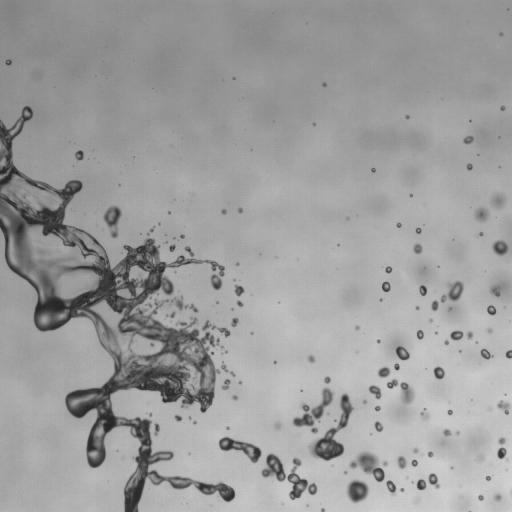droplet: (349, 451, 388, 482), (386, 378, 415, 404), (102, 205, 122, 238), (346, 478, 369, 503), (440, 280, 463, 302), (490, 192, 506, 209), (491, 240, 508, 255), (474, 206, 489, 222), (496, 399, 511, 414), (368, 384, 382, 399), (395, 346, 409, 360), (428, 473, 440, 489), (377, 365, 390, 378), (433, 366, 446, 379), (386, 480, 396, 495), (480, 348, 493, 359), (489, 285, 500, 297), (234, 284, 244, 297), (450, 330, 463, 340), (11, 156, 22, 167), (481, 198, 492, 209), (486, 205, 497, 216), (116, 234, 127, 245), (158, 250, 169, 261), (107, 256, 118, 267), (162, 267, 173, 278), (221, 279, 232, 290), (425, 290, 436, 301), (232, 306, 243, 317), (180, 309, 191, 320), (154, 311, 165, 322), (79, 315, 90, 326), (162, 317, 173, 328), (493, 348, 504, 359), (210, 353, 221, 364), (94, 376, 105, 387), (375, 376, 386, 387), (212, 385, 223, 396), (127, 386, 138, 397), (150, 389, 161, 400), (109, 390, 120, 401), (309, 396, 320, 407), (330, 397, 341, 408), (410, 397, 421, 408), (170, 399, 181, 410), (331, 405, 342, 416), (86, 409, 97, 420), (443, 417, 454, 428), (149, 441, 160, 452), (365, 444, 376, 455), (296, 467, 307, 478), (362, 473, 373, 484), (281, 480, 292, 491), (337, 484, 348, 495), (135, 500, 146, 511), (416, 478, 426, 490), (397, 456, 406, 469), (486, 305, 497, 315), (474, 453, 485, 463), (381, 281, 390, 293), (420, 408, 429, 420), (74, 150, 83, 161), (413, 243, 422, 254), (430, 300, 439, 311), (463, 135, 473, 144), (230, 317, 239, 327), (221, 379, 230, 389), (374, 421, 383, 431), (419, 285, 427, 296), (493, 493, 502, 502), (55, 181, 64, 190), (471, 200, 480, 209), (227, 206, 236, 215), (466, 209, 475, 218), (476, 221, 485, 230), (496, 232, 505, 241), (413, 234, 422, 243), (174, 246, 183, 255), (381, 272, 390, 281), (489, 296, 498, 305), (210, 328, 219, 337), (214, 374, 223, 383), (379, 385, 388, 394), (348, 396, 357, 405), (191, 400, 200, 409), (111, 407, 120, 416), (295, 408, 304, 417), (126, 411, 135, 420), (372, 411, 381, 420), (148, 415, 157, 424), (300, 424, 309, 433), (316, 429, 325, 438), (332, 432, 341, 441), (132, 437, 141, 446), (257, 455, 266, 464), (388, 458, 397, 467), (208, 476, 217, 485), (187, 484, 196, 493), (365, 490, 374, 499), (341, 493, 350, 502), (307, 354, 315, 363), (273, 421, 281, 430), (442, 428, 451, 436), (505, 103, 511, 114), (505, 195, 511, 206), (505, 393, 511, 404), (505, 447, 511, 458), (114, 505, 125, 511), (416, 330, 423, 339), (466, 331, 473, 340), (411, 458, 418, 467), (505, 349, 511, 359), (393, 362, 400, 370), (324, 376, 331, 384), (174, 414, 182, 421), (466, 163, 473, 170), (385, 266, 392, 273), (236, 300, 243, 307), (10, 138, 17, 145), (29, 173, 36, 180), (72, 192, 79, 199), (63, 206, 70, 213), (99, 207, 106, 214), (119, 207, 126, 214), (61, 217, 68, 224), (116, 217, 123, 224), (100, 220, 107, 227), (488, 237, 495, 244), (130, 241, 137, 248), (487, 247, 494, 254), (120, 249, 127, 256), (489, 250, 496, 257), (183, 252, 190, 259), (501, 252, 508, 259), (489, 279, 496, 286), (484, 284, 491, 291), (412, 286, 419, 293), (156, 287, 163, 294), (442, 287, 449, 294), (171, 289, 178, 296), (459, 292, 466, 299), (238, 294, 245, 301), (445, 297, 452, 304), (30, 299, 37, 306), (170, 304, 177, 311), (428, 309, 435, 316), (152, 313, 159, 320), (69, 316, 76, 323), (195, 322, 202, 329), (174, 323, 181, 330), (225, 323, 232, 330), (57, 325, 64, 332), (45, 329, 52, 336), (217, 332, 224, 339), (393, 356, 400, 363), (398, 359, 405, 366), (213, 361, 220, 368), (375, 362, 382, 369), (387, 363, 394, 370), (107, 367, 114, 374), (385, 374, 392, 381), (407, 380, 414, 387), (80, 382, 87, 389), (326, 382, 333, 389), (70, 384, 77, 391), (393, 384, 400, 391), (373, 398, 380, 405), (206, 405, 213, 412), (322, 405, 329, 412), (496, 408, 503, 415), (348, 411, 355, 418), (68, 414, 75, 421), (312, 419, 319, 426), (331, 421, 338, 428), (147, 425, 154, 432), (110, 426, 117, 433), (230, 433, 237, 440), (81, 434, 88, 441), (80, 440, 87, 447), (104, 447, 111, 454), (228, 447, 235, 454), (295, 452, 302, 459), (316, 456, 323, 463), (330, 456, 337, 463), (404, 457, 411, 464), (100, 460, 107, 467), (130, 461, 137, 468), (147, 463, 154, 470), (283, 467, 290, 474), (269, 473, 276, 480), (143, 477, 150, 484), (203, 477, 210, 484), (224, 479, 231, 486), (162, 480, 169, 487), (175, 487, 182, 494), (301, 489, 308, 496), (212, 490, 219, 497), (356, 499, 363, 506), (506, 245, 511, 254), (415, 227, 421, 234), (169, 244, 175, 251), (485, 474, 491, 481), (5, 59, 11, 65), (486, 327, 492, 333), (374, 405, 380, 411), (446, 409, 452, 415), (427, 451, 433, 457), (478, 494, 484, 500), (0, 55, 4, 64), (0, 141, 4, 150), (0, 158, 4, 167), (500, 105, 505, 111), (238, 207, 243, 213), (220, 209, 226, 214), (444, 339, 449, 345), (232, 395, 238, 400), (412, 448, 418, 453), (396, 222, 401, 227), (428, 318, 433, 323), (362, 399, 367, 404), (487, 406, 492, 411), (455, 430, 460, 435), (29, 104, 34, 109), (16, 112, 21, 117), (23, 120, 28, 125), (5, 124, 10, 129), (461, 133, 466, 138), (458, 137, 463, 142), (470, 140, 475, 145), (464, 143, 469, 148), (82, 152, 87, 157), (471, 162, 476, 167), (72, 175, 77, 180), (47, 180, 52, 185), (79, 187, 84, 192), (222, 204, 227, 209), (216, 207, 221, 212), (242, 207, 247, 212), (225, 209, 230, 214), (233, 209, 238, 214), (220, 213, 225, 218), (83, 226, 88, 231), (148, 233, 153, 238), (168, 240, 173, 245), (153, 241, 158, 246), (408, 246, 413, 251), (421, 246, 426, 251), (409, 249, 414, 254), (414, 252, 419, 257), (193, 254, 198, 259), (200, 255, 205, 260), (208, 255, 213, 260), (217, 260, 222, 265), (187, 262, 192, 267), (206, 263, 211, 268), (179, 264, 184, 269), (4, 265, 9, 270), (214, 268, 219, 273), (12, 272, 17, 277), (219, 275, 224, 280), (456, 276, 461, 281), (21, 278, 26, 283), (449, 279, 454, 284), (237, 281, 242, 286), (208, 284, 213, 289), (219, 285, 224, 290), (389, 285, 394, 290), (425, 285, 430, 290), (172, 286, 177, 291), (30, 287, 35, 292), (498, 288, 503, 293), (379, 289, 384, 294), (166, 294, 171, 299), (435, 296, 440, 301), (144, 297, 149, 302), (182, 299, 187, 304), (437, 301, 442, 306), (193, 302, 198, 307), (233, 303, 238, 308), (166, 309, 171, 314), (191, 311, 196, 316), (231, 313, 236, 318), (432, 319, 437, 324), (29, 320, 34, 325), (355, 320, 360, 325), (218, 322, 223, 327), (235, 322, 240, 327), (32, 326, 37, 331), (206, 326, 211, 331), (450, 326, 455, 331), (36, 329, 41, 334), (91, 329, 96, 334), (422, 329, 427, 334), (462, 332, 467, 337), (422, 334, 427, 339), (471, 335, 476, 340), (93, 336, 98, 341), (448, 338, 453, 343), (397, 341, 402, 346), (506, 345, 511, 350), (406, 347, 411, 352), (306, 350, 311, 355), (209, 354, 214, 359), (313, 354, 318, 359), (479, 356, 484, 361), (305, 360, 310, 365), (311, 361, 316, 366), (438, 362, 443, 367), (431, 363, 436, 368), (442, 366, 447, 371), (219, 368, 224, 373), (324, 371, 329, 376), (429, 371, 434, 376), (226, 374, 231, 379), (442, 374, 447, 379), (319, 376, 324, 381), (434, 377, 439, 382), (439, 377, 444, 382), (329, 378, 334, 383), (396, 378, 401, 383), (367, 381, 372, 386), (323, 382, 328, 387), (364, 388, 369, 393), (60, 397, 65, 402), (211, 397, 216, 402), (494, 398, 499, 403), (231, 399, 236, 404), (165, 401, 170, 406), (61, 403, 66, 408), (177, 411, 182, 416), (139, 415, 144, 420), (288, 416, 293, 421), (171, 417, 176, 422), (379, 419, 384, 424), (158, 424, 163, 429), (445, 424, 450, 429), (125, 425, 130, 430), (371, 427, 376, 432), (381, 427, 386, 432), (449, 428, 454, 433), (378, 430, 383, 435), (439, 432, 444, 437), (498, 432, 503, 437), (218, 433, 223, 438), (445, 434, 450, 439), (253, 441, 258, 446), (214, 442, 219, 447), (501, 442, 506, 447), (410, 443, 415, 448), (496, 443, 501, 448), (342, 444, 347, 449), (238, 449, 243, 454), (492, 450, 497, 455), (432, 451, 437, 456), (82, 457, 87, 462), (169, 457, 174, 462), (499, 457, 504, 462), (93, 466, 98, 471), (381, 466, 386, 471), (429, 468, 434, 473), (157, 470, 162, 475), (180, 472, 185, 477), (257, 472, 262, 477), (435, 472, 440, 477), (124, 474, 129, 479), (299, 474, 304, 479), (382, 477, 387, 482), (436, 478, 441, 483), (306, 479, 311, 484), (424, 479, 429, 484), (412, 481, 417, 486), (394, 487, 399, 492), (436, 487, 441, 492), (416, 488, 421, 493), (233, 489, 238, 494), (315, 489, 320, 494), (493, 489, 498, 494), (499, 491, 504, 496), (311, 493, 316, 498), (482, 493, 487, 498), (230, 498, 235, 503), (499, 498, 504, 503), (477, 232, 483, 236), (0, 230, 3, 237), (322, 82, 326, 87), (405, 114, 409, 119), (180, 234, 185, 238), (415, 305, 419, 310), (355, 325, 359, 330), (433, 331, 438, 335), (238, 380, 242, 385), (192, 420, 197, 424), (343, 470, 347, 475), (399, 488, 404, 492), (499, 32, 503, 36), (312, 122, 316, 126), (371, 168, 375, 172), (345, 216, 349, 220), (235, 262, 239, 266), (448, 307, 452, 311), (376, 339, 380, 343), (458, 349, 462, 353), (320, 508, 325, 511), (508, 357, 511, 362), (508, 408, 511, 413), (315, 508, 320, 511), (324, 508, 329, 511), (409, 193, 412, 197), (167, 211, 171, 214), (158, 222, 161, 226), (232, 278, 236, 281), (379, 298, 383, 301), (230, 307, 234, 310), (250, 331, 253, 335), (355, 350, 359, 353), (273, 360, 276, 364), (299, 389, 303, 392), (188, 416, 191, 420), (226, 426, 229, 430), (337, 243, 340, 246), (216, 301, 219, 304), (470, 398, 473, 401), (326, 412, 329, 415), (330, 464, 333, 467), (450, 466, 453, 469), (405, 476, 408, 479), (306, 504, 309, 507), (496, 30, 499, 33), (501, 30, 504, 33), (499, 35, 502, 38), (10, 58, 13, 61), (2, 62, 5, 65), (10, 62, 13, 65), (7, 64, 10, 67), (235, 76, 238, 79), (232, 79, 235, 82), (319, 81, 322, 84), (325, 81, 328, 84), (320, 85, 323, 88), (21, 104, 24, 107), (497, 105, 500, 108), (504, 105, 507, 108), (500, 110, 503, 113), (407, 112, 410, 115), (402, 114, 405, 117), (468, 116, 471, 119), (404, 118, 407, 121), (312, 119, 315, 122), (465, 119, 468, 122), (471, 119, 474, 122), (315, 122, 318, 125), (310, 124, 313, 127), (497, 132, 500, 135), (75, 148, 78, 151), (476, 150, 479, 153), (476, 155, 479, 158), (73, 157, 76, 160), (79, 159, 82, 162), (468, 160, 471, 163), (371, 164, 374, 167), (374, 166, 377, 169), (464, 167, 467, 170), (497, 167, 500, 170), (368, 169, 371, 172), (468, 169, 471, 172), (374, 170, 377, 173), (409, 190, 412, 193), (406, 193, 409, 196), (412, 193, 415, 196), (409, 196, 412, 199), (164, 210, 167, 213), (170, 211, 173, 214), (239, 212, 242, 215), (396, 219, 399, 222), (160, 221, 163, 224), (154, 222, 157, 225), (400, 224, 403, 227), (76, 225, 79, 228), (419, 225, 422, 228), (79, 226, 82, 229), (395, 226, 398, 229), (153, 227, 156, 230), (412, 228, 415, 231), (479, 228, 482, 231), (420, 230, 423, 233), (476, 230, 479, 233), (180, 231, 183, 234), (482, 231, 485, 234), (478, 235, 481, 238), (95, 237, 98, 240), (179, 237, 182, 240), (336, 240, 339, 243), (333, 243, 336, 246), (339, 243, 342, 246), (102, 244, 105, 247), (166, 246, 169, 249), (190, 248, 193, 251), (105, 249, 108, 252), (233, 260, 236, 263), (238, 260, 241, 263), (185, 263, 188, 266), (383, 264, 386, 267), (439, 264, 442, 267), (390, 265, 393, 268), (382, 267, 385, 270), (389, 271, 392, 274), (389, 282, 392, 285), (378, 284, 381, 287), (232, 286, 235, 289), (379, 287, 382, 290), (417, 291, 420, 294), (376, 296, 379, 299), (381, 299, 384, 302), (218, 300, 221, 303), (212, 301, 215, 304), (216, 303, 219, 306), (277, 303, 280, 306), (412, 305, 415, 308), (418, 305, 421, 308), (484, 305, 487, 308), (415, 309, 418, 312), (449, 309, 452, 312), (484, 310, 487, 313), (487, 313, 490, 316), (493, 313, 496, 316), (186, 321, 189, 324), (352, 324, 355, 327), (359, 326, 362, 329), (418, 326, 421, 329), (249, 328, 252, 331), (434, 328, 437, 331), (356, 329, 359, 332), (253, 331, 256, 334), (431, 331, 434, 334), (247, 332, 250, 335), (413, 332, 416, 335), (250, 334, 253, 337), (434, 334, 437, 337), (226, 335, 229, 338), (414, 335, 417, 338), (376, 336, 379, 339), (419, 338, 422, 341), (373, 339, 376, 342), (379, 339, 382, 342), (441, 340, 444, 343), (444, 344, 447, 347), (224, 346, 227, 349), (486, 348, 489, 351), (227, 349, 230, 352), (461, 349, 464, 352), (477, 351, 480, 354), (222, 352, 225, 355), (502, 352, 505, 355), (408, 353, 411, 356), (488, 357, 491, 360), (270, 360, 273, 363), (223, 361, 226, 364), (272, 363, 275, 366), (232, 370, 235, 373), (241, 381, 244, 384), (237, 383, 240, 386), (299, 386, 302, 389), (224, 388, 227, 391), (296, 388, 299, 391), (302, 388, 305, 391), (503, 389, 506, 392), (299, 391, 302, 394), (234, 392, 237, 395), (379, 396, 382, 399), (362, 403, 365, 406), (423, 404, 426, 407), (448, 406, 451, 409), (371, 407, 374, 410), (378, 409, 381, 412), (444, 409, 447, 412), (375, 410, 378, 413), (417, 412, 420, 415), (445, 413, 448, 416), (450, 413, 453, 416), (190, 418, 193, 421), (177, 420, 180, 423), (196, 420, 199, 423), (194, 423, 197, 426), (228, 425, 231, 428), (458, 433, 461, 436), (428, 448, 431, 451), (424, 452, 427, 455), (427, 456, 430, 459), (416, 459, 419, 462), (416, 463, 419, 466), (451, 463, 454, 466), (411, 465, 414, 468), (449, 468, 452, 471), (340, 469, 343, 472), (488, 473, 491, 476), (482, 475, 485, 478), (490, 476, 493, 479), (488, 479, 491, 482), (392, 480, 395, 483), (314, 482, 317, 485), (403, 487, 406, 490), (475, 496, 478, 499), (322, 505, 325, 508), (468, 507, 471, 510), (274, 256, 278, 258), (232, 77, 235, 79), (469, 119, 471, 122), (172, 237, 175, 239), (164, 241, 167, 243), (503, 306, 506, 308), (475, 341, 478, 343), (369, 433, 372, 435), (116, 449, 118, 452), (188, 452, 190, 455), (505, 468, 507, 471), (281, 503, 284, 505), (509, 7, 511, 10), (498, 136, 500, 138), (498, 166, 500, 168), (118, 184, 120, 186), (437, 265, 439, 267), (278, 301, 280, 303), (504, 393, 506, 395), (411, 481, 413, 483), (507, 8, 508, 10), (250, 149, 252, 150), (72, 165, 74, 166), (452, 239, 454, 240), (165, 234, 166, 235), (460, 486, 461, 487)
ligament: (307, 392, 353, 461), (218, 436, 261, 463), (497, 437, 509, 462), (146, 225, 155, 236), (510, 488, 511, 496), (468, 510, 471, 511)
